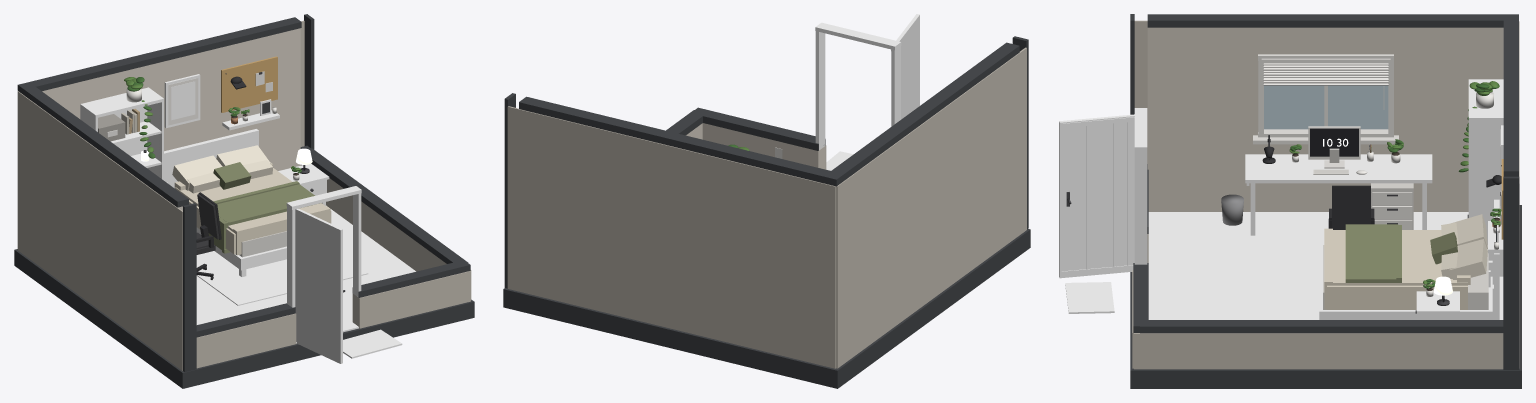
File: room.glb
3 renders of one model, left to right at view 1: azimuth 30°, elevation 25°; view 2: azimuth 150°, elevation 25°; view 3: azimuth 270°, elevation 25°, orthographic. The views are drawn at different scales.
Visible parts, largest first — view 1: wA_out, wB, floor_edge, door, floor, wC_out_r, cap_B, rug, wC_out_l, cap_A, wD, cap_D (+31 smaller); view 2: wB_out, wA_out, floor_edge, cap_B, cap_A, wC_r, cap_C_r, door, jamb_r, jamb_t, rev_B, jamb_l (+2 smaller); view 3: floor, wA_bot, wD_out, door, wA_top, floor_edge, wA_l, wA_r, win_glass, cap_A, cap_D, desk_top (+35 smaller).
Boxes of the visible parts, x1=… form: wA_out: x1=17, y1=91, x2=182, y2=370; wB: x1=42, y1=28, x2=300, y2=170; floor_edge: x1=14, y1=249, x2=474, y2=388; door: x1=295, y1=208, x2=342, y2=363; floor: x1=196, y1=205, x2=415, y2=324; wC_out_r: x1=359, y1=271, x2=470, y2=328; cap_B: x1=17, y1=17, x2=301, y2=94; rug: x1=196, y1=251, x2=368, y2=305; wC_out_l: x1=196, y1=313, x2=296, y2=368; cap_A: x1=18, y1=82, x2=188, y2=207; wD: x1=300, y1=164, x2=446, y2=271; cap_D: x1=300, y1=145, x2=468, y2=263; wB_out: x1=507, y1=106, x2=836, y2=368; wA_out: x1=836, y1=47, x2=1026, y2=368; floor_edge: x1=503, y1=229, x2=1030, y2=388; cap_B: x1=519, y1=96, x2=843, y2=186; cap_A: x1=824, y1=42, x2=1019, y2=182; wC_r: x1=702, y1=123, x2=815, y2=166; cap_C_r: x1=691, y1=107, x2=825, y2=150; door: x1=896, y1=14, x2=919, y2=119; jamb_r: x1=815, y1=29, x2=825, y2=150; jamb_t: x1=815, y1=22, x2=901, y2=50; rev_B: x1=504, y1=93, x2=515, y2=288; jamb_l: x1=891, y1=46, x2=900, y2=126; floor: x1=1148, y1=212, x2=1503, y2=319; wA_bot: x1=1147, y1=133, x2=1468, y2=211; wD_out: x1=1134, y1=333, x2=1503, y2=369; door: x1=1059, y1=114, x2=1134, y2=278; wA_top: x1=1147, y1=27, x2=1503, y2=57; floor_edge: x1=1130, y1=205, x2=1521, y2=388; wA_l: x1=1147, y1=58, x2=1258, y2=133; wA_r: x1=1394, y1=58, x2=1503, y2=133; win_glass: x1=1264, y1=85, x2=1388, y2=129; cap_A: x1=1147, y1=14, x2=1517, y2=27; cap_D: x1=1140, y1=320, x2=1503, y2=333; desk_top: x1=1245, y1=154, x2=1432, y2=183.
Size of the model in its own units: 4.61 by 2.74 by 5.45.
